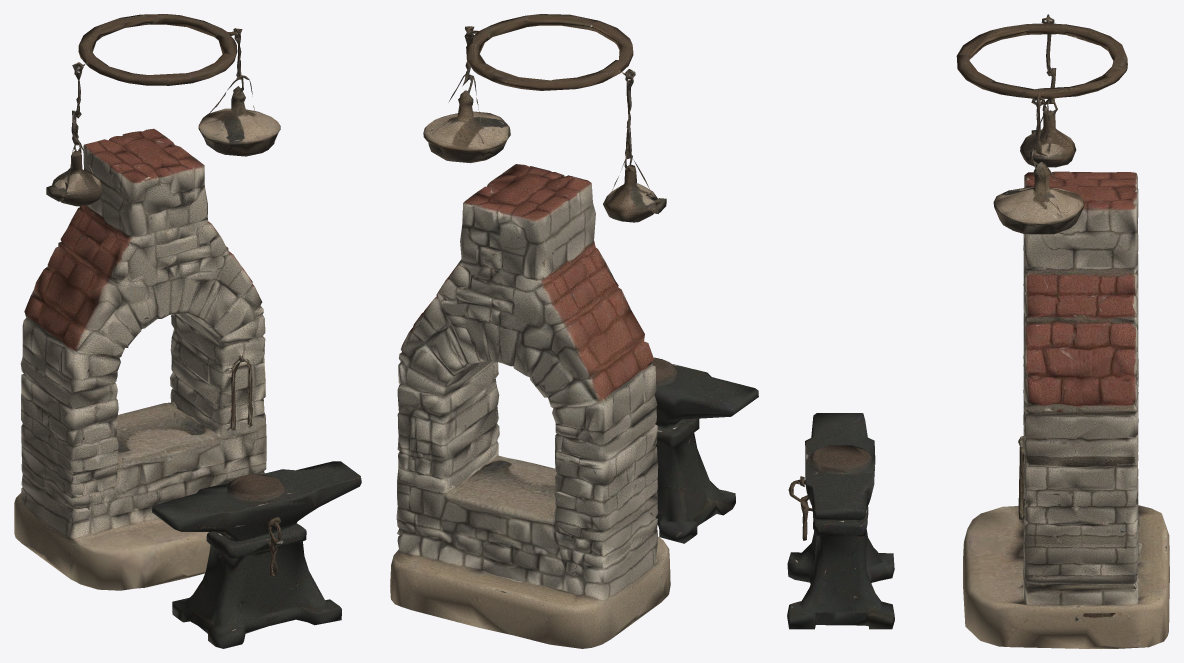
The model's file is schmiede.glb.
The picture shows the model from 3 angles, left to right: view 1: azimuth 30°, elevation 25°; view 2: azimuth 150°, elevation 25°; view 3: azimuth 270°, elevation 25°; orthographic projection. The views are drawn at different scales.
Bounding box in the file's own units: 0.8736 × 1.9 × 1.22.
1 material, 1 textured.
